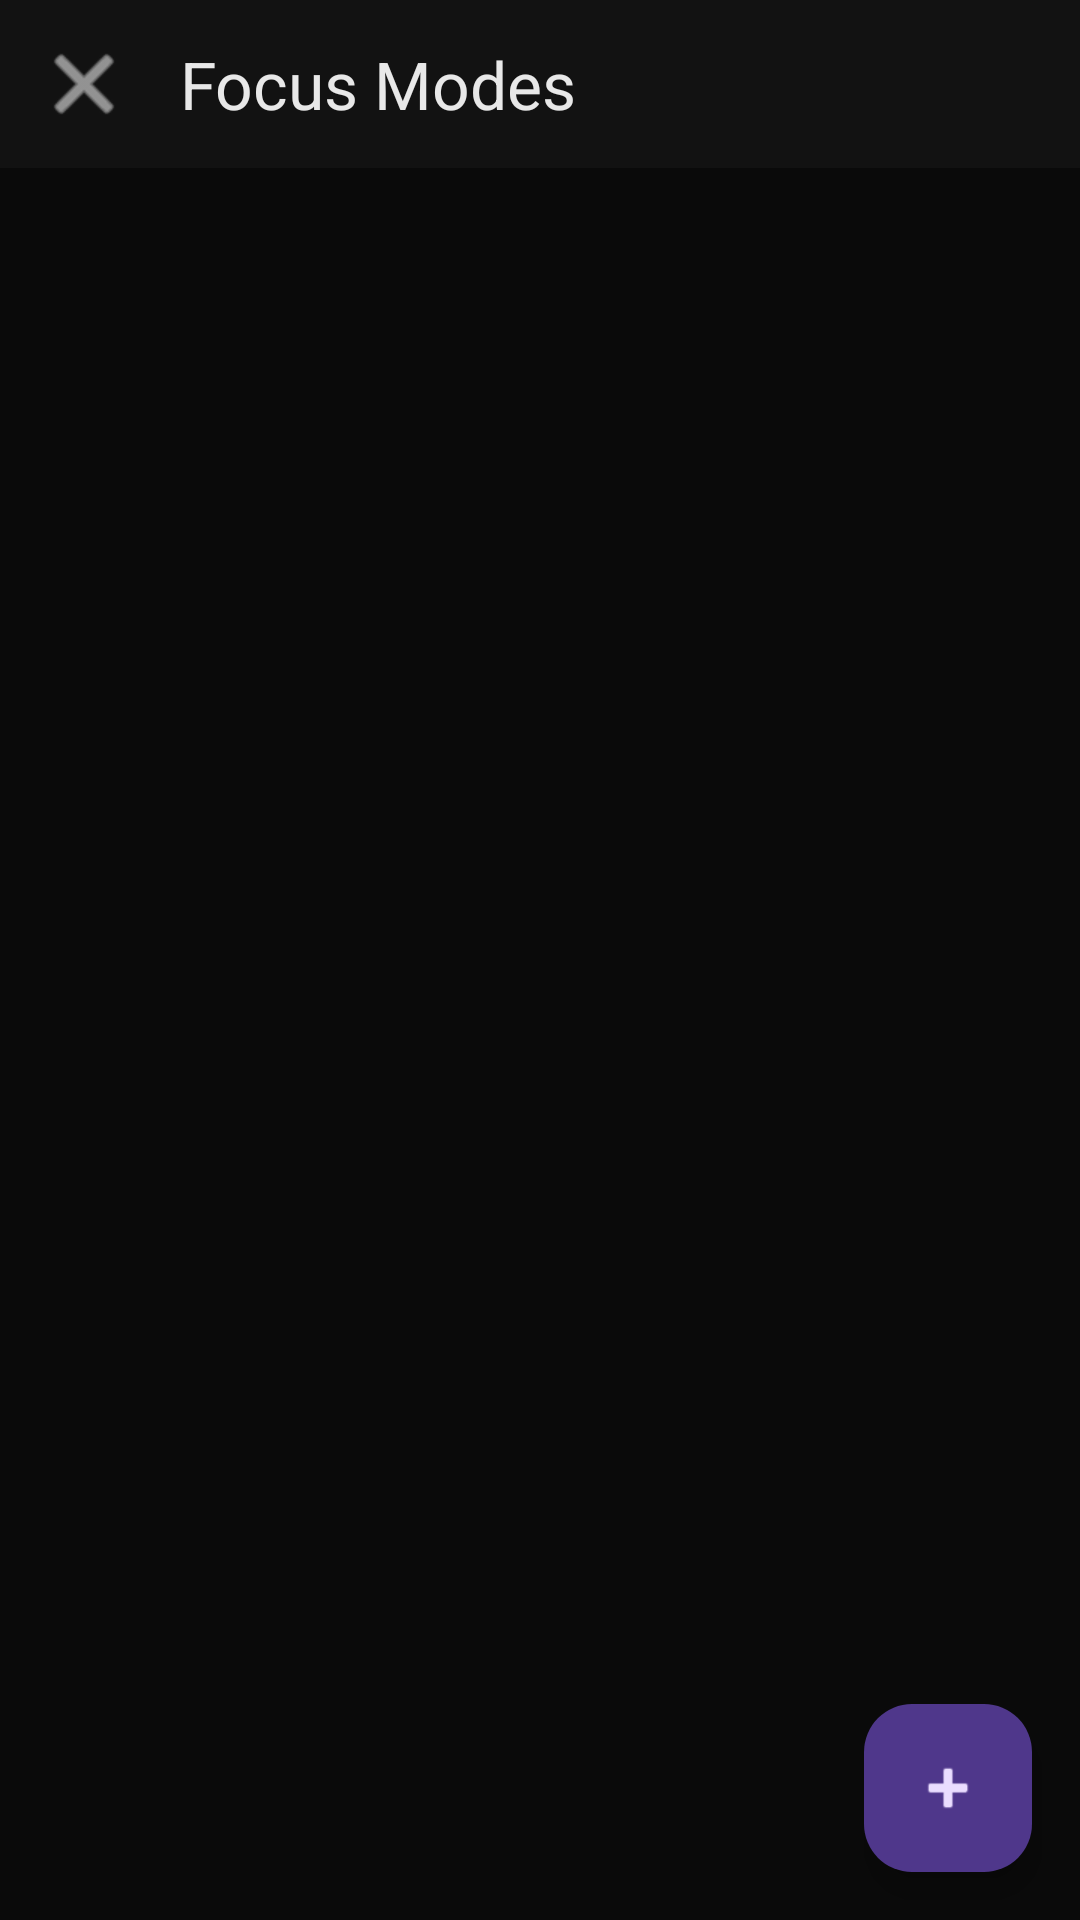

Icons on this 1080px×1920px Android screen, each with the point to tap as (x,y):
Create Focus Mode: (948,1788)
